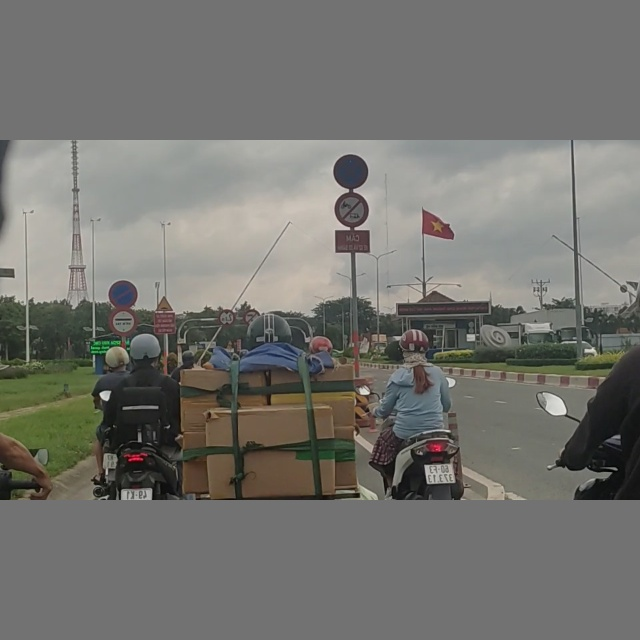P.111: (333, 193, 369, 227)
P.117*: (217, 310, 235, 326)
P.129: (109, 309, 138, 336)
P.130: (333, 154, 369, 188)
P.131a: (108, 281, 138, 308)
W.221b: (154, 296, 174, 312)
